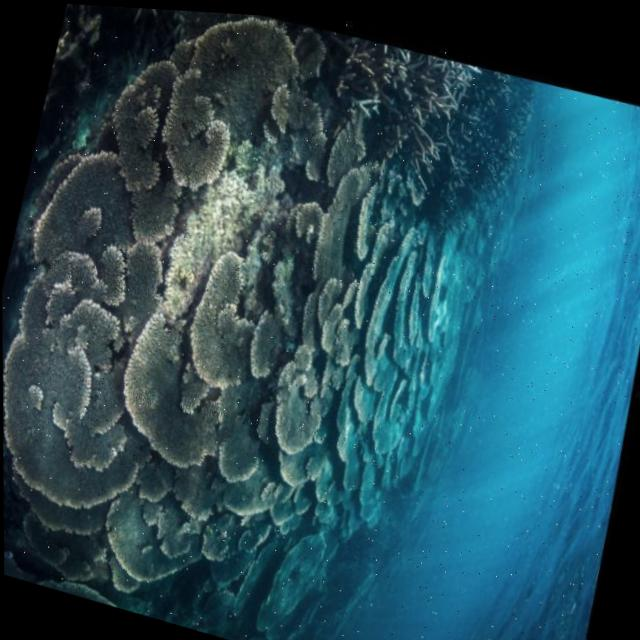Healthy Coral: (0, 0, 514, 623)
